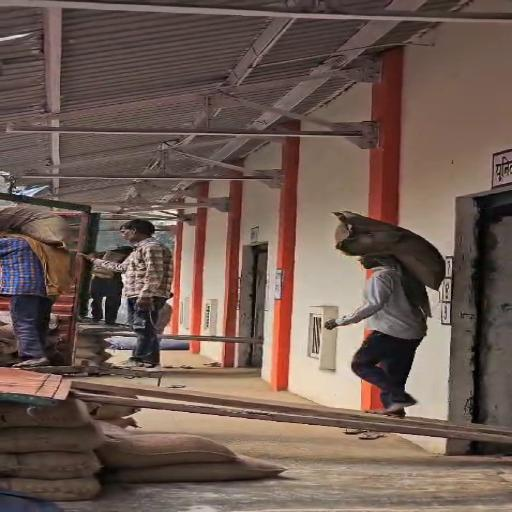bag: (334, 204, 446, 288), (2, 198, 74, 250)
